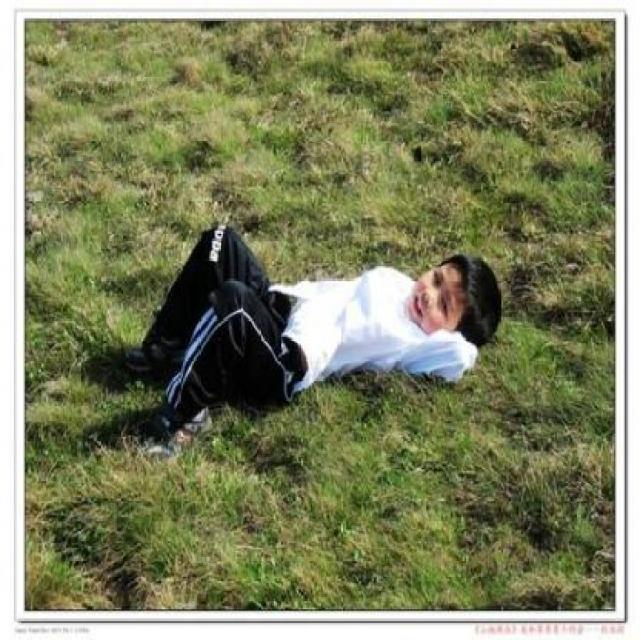fall: (119, 205, 506, 446)
